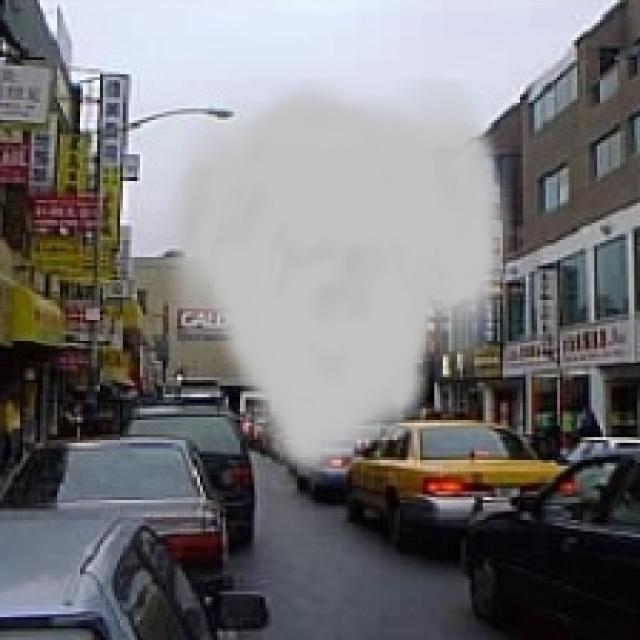smoke: (155, 77, 514, 486)
